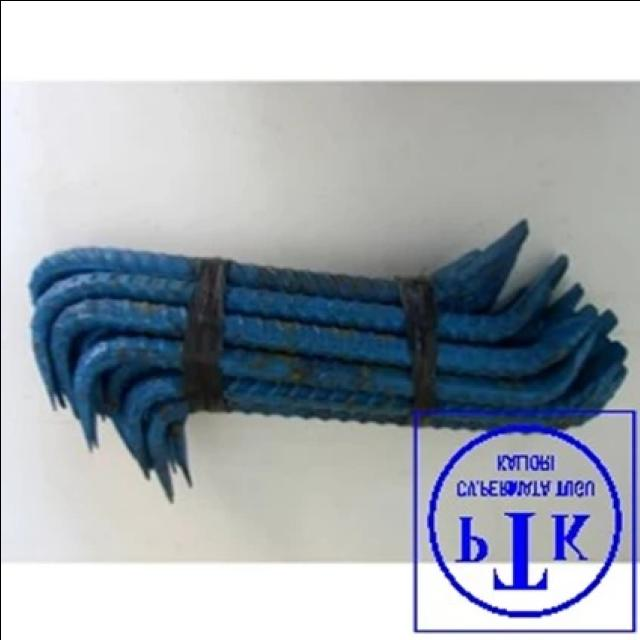Linggis: (30, 223, 586, 408)
